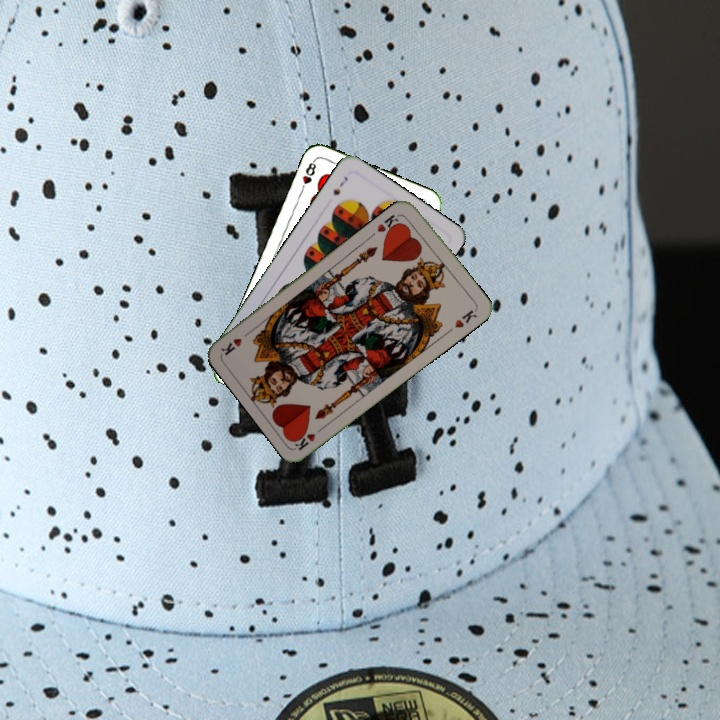H8: (297, 156, 319, 195)
HK: (290, 421, 328, 453), (373, 210, 404, 238)
S7: (329, 172, 350, 198)
